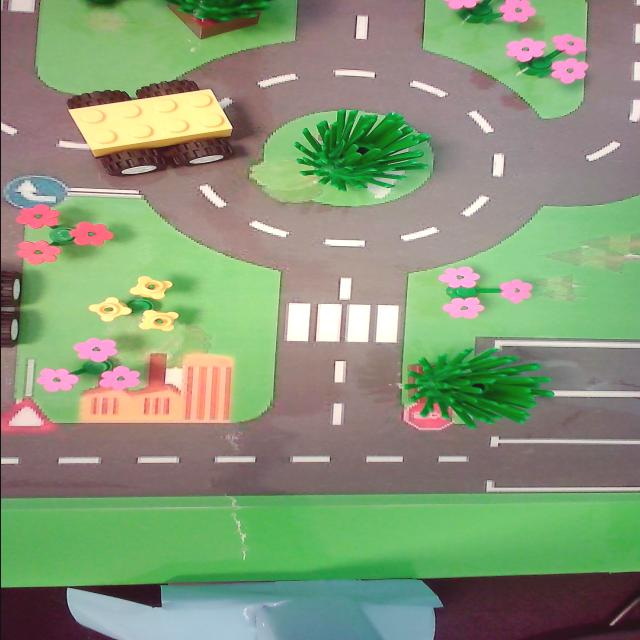Car: (56, 76, 245, 180)
Flower: (35, 336, 141, 404), (9, 199, 113, 267), (429, 258, 539, 320), (491, 30, 603, 90), (86, 276, 192, 334), (431, 0, 545, 31)
Tree: (387, 344, 558, 427), (286, 106, 444, 195), (148, 0, 281, 42)
